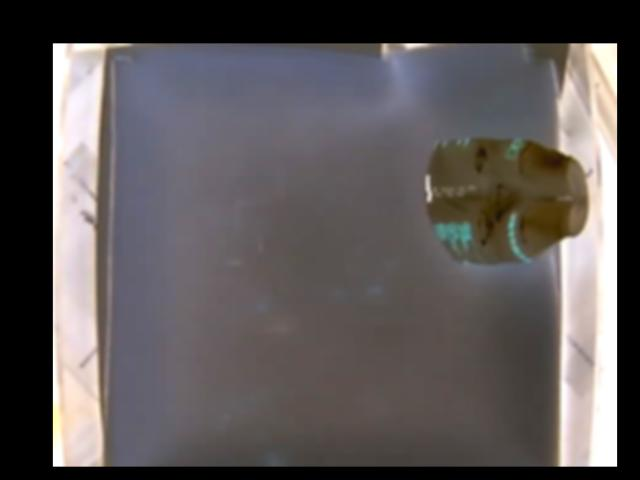Bottle: (425, 138, 590, 267)
